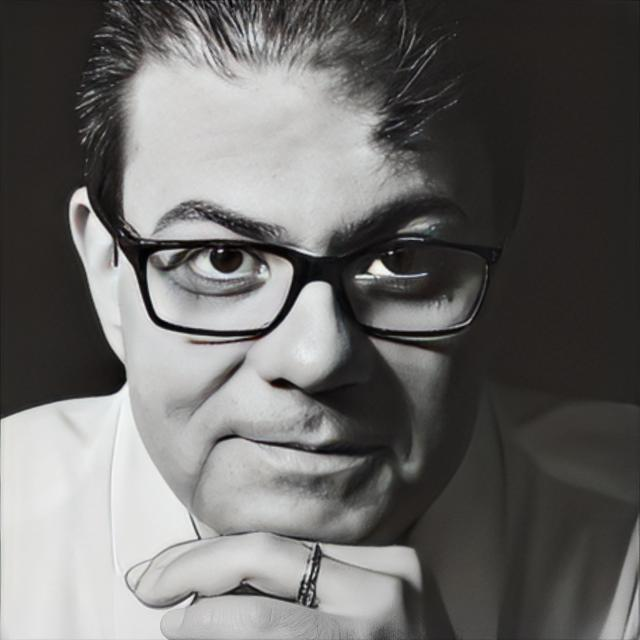content: (119, 24, 498, 554)
